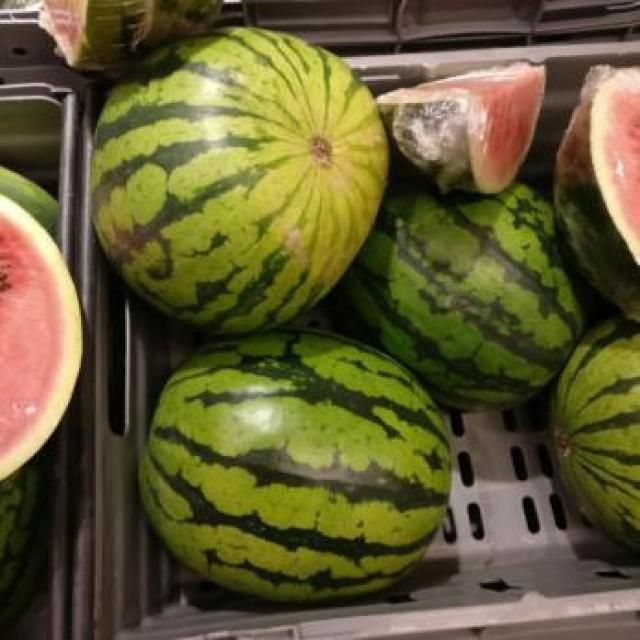Watermelon: (88, 28, 390, 332), (140, 329, 454, 600), (371, 177, 584, 416), (379, 53, 546, 196)
